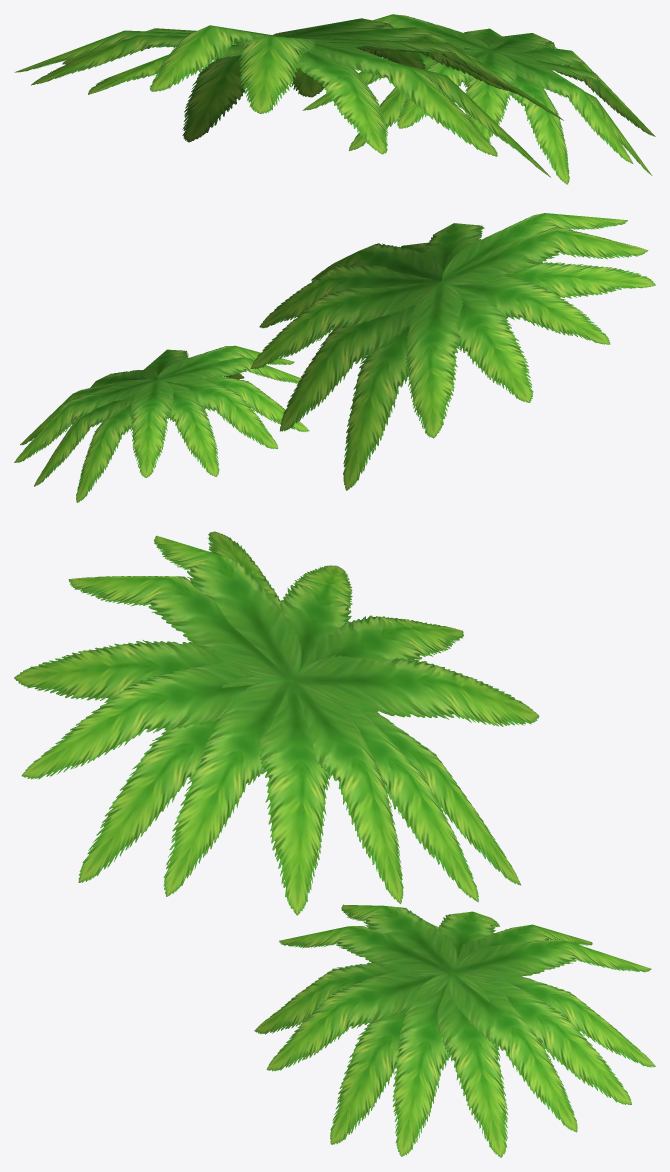
File: PalmCrownBigsShape.dae
3 views of the same model, one above another, from view 1: azimuth 30°, elevation 25°; view 2: azimuth 150°, elevation 25°; view 3: azimuth 270°, elevation 25° (orthographic). The views are drawn at different scales.
Parts seen in each view (by area): view 1: PalmCrownBigs; view 2: PalmCrownBigs; view 3: PalmCrownBigs.
Boxes of the visible parts, box(x1,y1,x2,y2) form: PalmCrownBigs: box(14, 14, 655, 184); PalmCrownBigs: box(14, 213, 655, 502); PalmCrownBigs: box(14, 531, 655, 1157).
Size of the model in its own units: 67.18 by 30.2 by 52.78.
